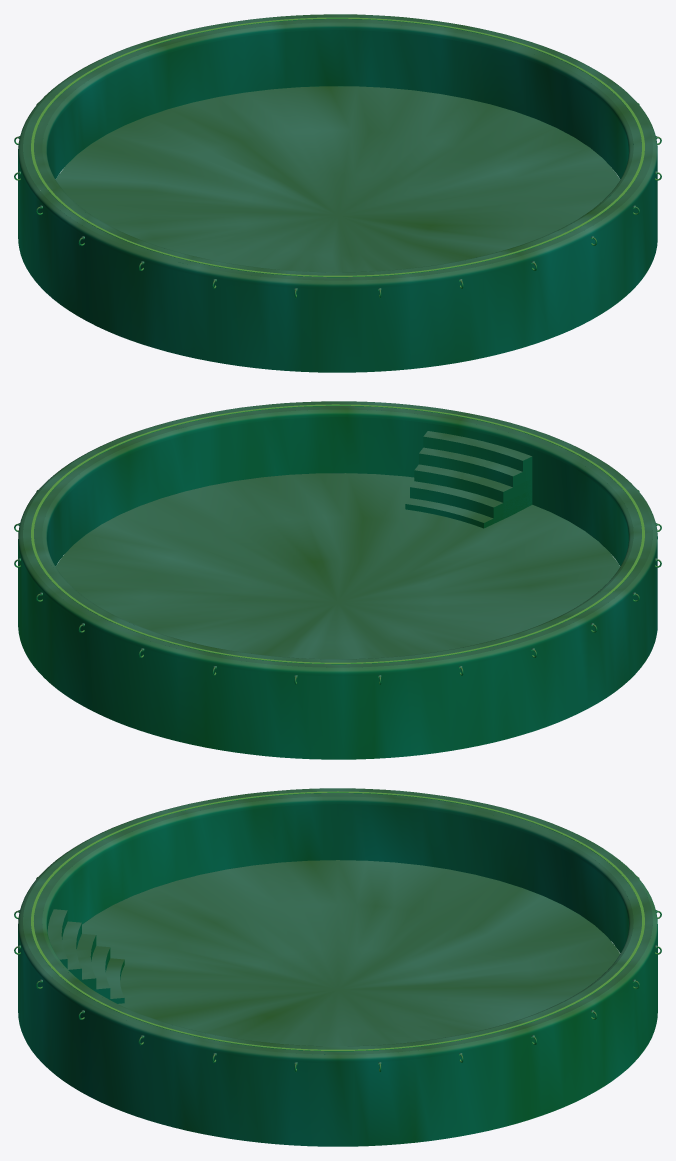
Rendered from catch_pool.glb.
3 views of the same model, one above another, from view 1: azimuth 30°, elevation 25°; view 2: azimuth 150°, elevation 25°; view 3: azimuth 270°, elevation 25° (orthographic).
Parts seen in each view (by area): view 1: catch_pool; view 2: catch_pool; view 3: catch_pool.
Boxes of the visible parts, x1,y1,x2,y2 form: catch_pool: [14, 14, 661, 372]; catch_pool: [14, 401, 661, 759]; catch_pool: [14, 788, 661, 1146].
Size of what is drawn, in the model's own units: 26.74 by 4.11 by 26.74.
